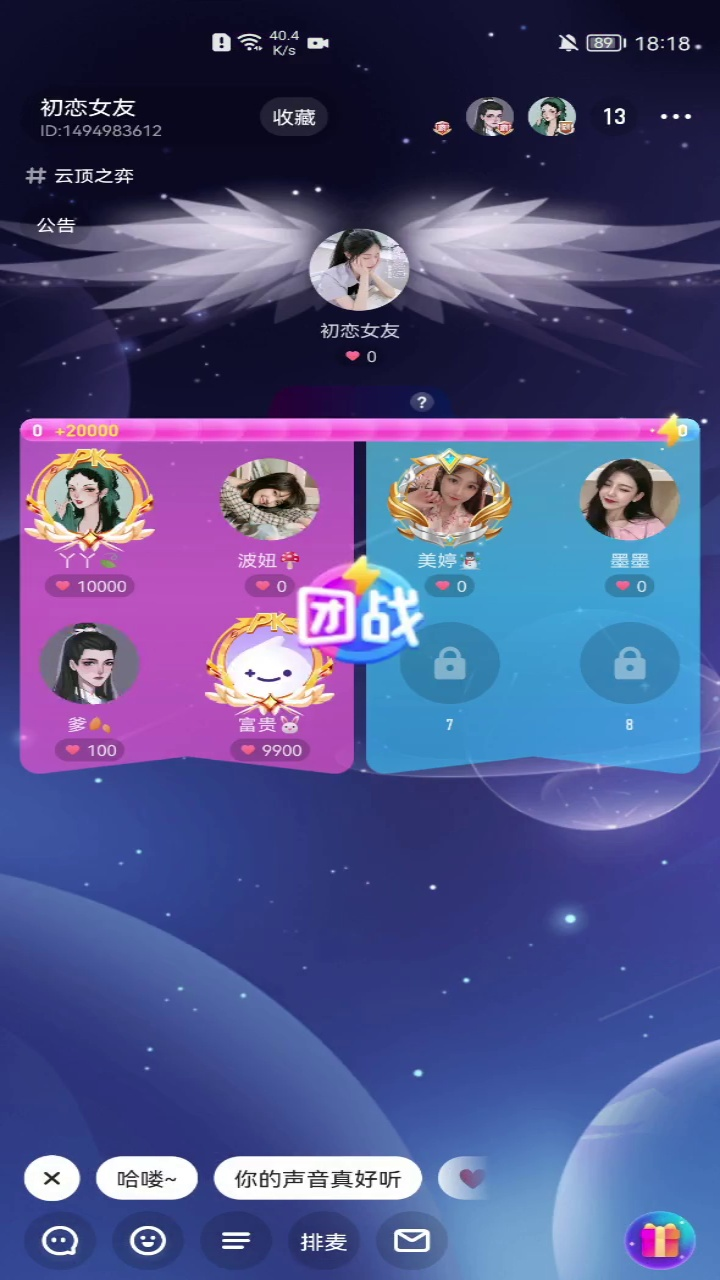avatar: (204, 604, 341, 720)
